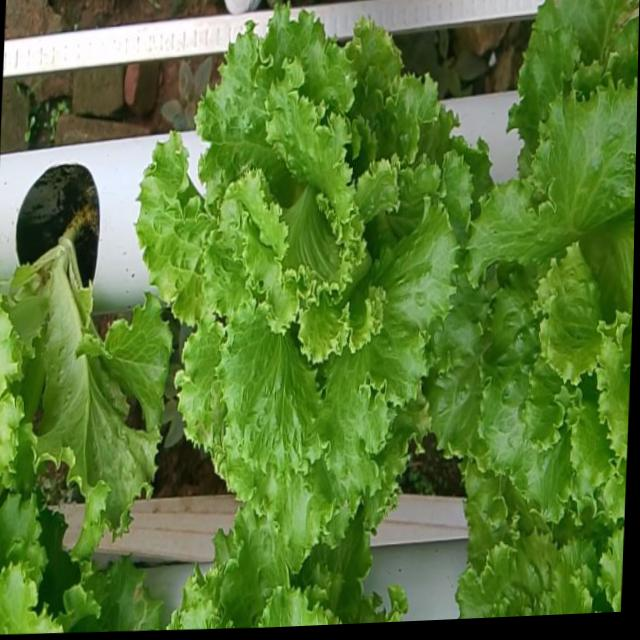Mature: (136, 7, 472, 545), (429, 74, 638, 518)
